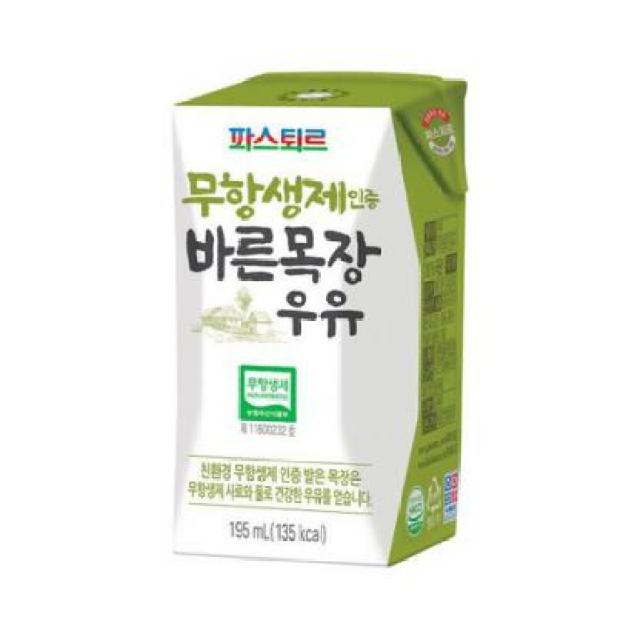tetra: (113, 19, 524, 608)
